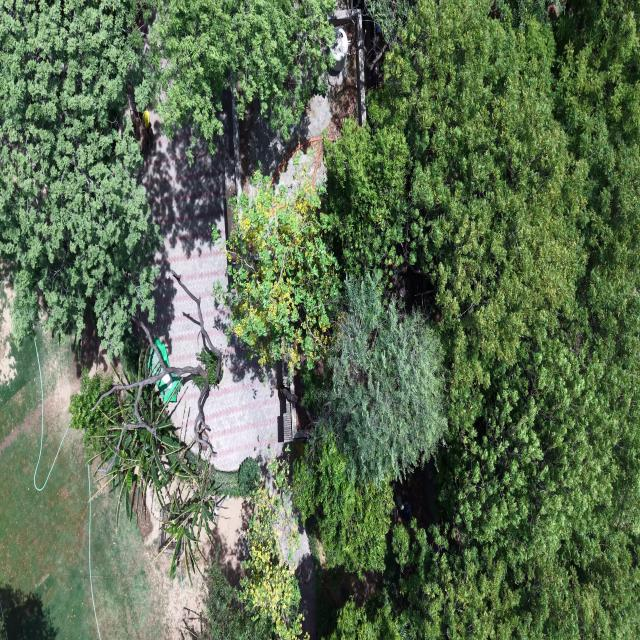DRY_AREA: (143, 113, 282, 470), (143, 114, 282, 470), (143, 115, 281, 470), (143, 132, 281, 469), (0, 341, 97, 639)
VEGETATION_TREE: (216, 0, 639, 639), (294, 0, 639, 638), (336, 0, 639, 638), (0, 0, 332, 356), (0, 0, 159, 355), (70, 348, 290, 577), (70, 274, 228, 577), (70, 272, 226, 578), (294, 275, 446, 573), (294, 275, 445, 573), (70, 349, 225, 577), (70, 349, 224, 577), (151, 0, 334, 151), (319, 275, 446, 484), (216, 175, 339, 368), (197, 460, 308, 639), (293, 432, 393, 574), (325, 119, 409, 277), (242, 460, 308, 639), (198, 563, 271, 639), (70, 368, 121, 456), (330, 595, 403, 639), (363, 0, 412, 46), (238, 458, 261, 495), (0, 616, 5, 632)
